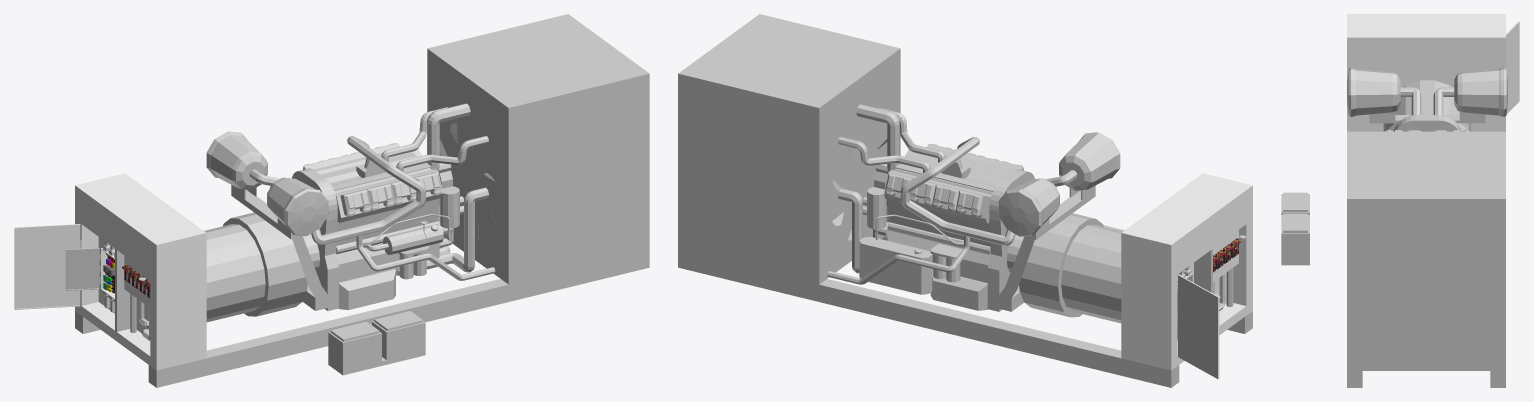
Rendered from Generator_Test.glb.
The picture shows the model from 3 angles, left to right: view 1: azimuth 30°, elevation 25°; view 2: azimuth 150°, elevation 25°; view 3: azimuth 270°, elevation 25°; orthographic projection. The views are drawn at different scales.
Parts seen in each view (by area): view 1: Cube.150, Cube.132, Cube.140, Cylinder.006, Cube.138, Cube.254, Air_Intake_A.001, Air_Intake_B, Cube.137, Battery_A, Battery_A.001, Cube.139 (+13 smaller); view 2: Cube.150, Cube.132, Cube.141, Cylinder.006, Cube.138, Cube.254, Cube.158, Air_Intake_A.001, Air_Intake_A, Cube.137, Air_Intake_Lid_B, Cylinder.023 (+11 smaller); view 3: Cube.150, Cube.132, Air_Intake_A, Air_Intake_B, Battery_A.001, Cylinder.006, Cube.254, Cube.137, Air_Intake_A.001, Battery_A, Air_Intake_Lid_B, Air_Intake_Lid_A (+5 smaller).
Boxes of the visible parts, box(x1,y1,x2,y2) form: Cube.150: box(427, 14, 649, 284); Cube.132: box(75, 173, 206, 370); Cube.140: box(148, 250, 649, 387); Cylinder.006: box(204, 212, 319, 322); Cube.138: box(313, 152, 442, 282); Cube.254: box(14, 224, 80, 309); Air_Intake_A.001: box(249, 136, 425, 244); Air_Intake_B: box(209, 133, 267, 189); Cube.137: box(292, 168, 338, 310); Battery_A: box(328, 321, 381, 370); Battery_A.001: box(372, 311, 425, 359); Cube.139: box(338, 269, 395, 309); Cube.150: box(678, 14, 900, 284); Cube.132: box(1121, 173, 1252, 370); Cube.141: box(678, 250, 1179, 387); Cylinder.006: box(1007, 213, 1122, 323); Cube.138: box(884, 153, 1012, 282); Cube.254: box(1178, 274, 1219, 379); Cube.158: box(859, 236, 932, 294); Air_Intake_A.001: box(901, 137, 1077, 245); Air_Intake_A: box(1059, 134, 1117, 190); Cube.137: box(987, 169, 1034, 311); Air_Intake_Lid_B: box(998, 189, 1042, 236); Cylinder.023: box(999, 190, 1095, 298); Cube.150: box(1347, 131, 1505, 370); Cube.132: box(1347, 14, 1505, 131); Air_Intake_A: box(1354, 68, 1400, 115); Air_Intake_B: box(1454, 68, 1500, 115); Battery_A.001: box(1281, 213, 1309, 260); Cylinder.006: box(1383, 80, 1471, 131); Cube.254: box(1506, 21, 1519, 113); Cube.137: box(1394, 115, 1460, 131); Air_Intake_A.001: box(1400, 87, 1454, 115); Battery_A: box(1281, 192, 1309, 214); Air_Intake_Lid_B: box(1500, 67, 1507, 116); Air_Intake_Lid_A: box(1347, 67, 1354, 116).
Size of the model in its own units: 7.76 by 2.63 by 3.
Materials: 5 (3 with a texture image).
